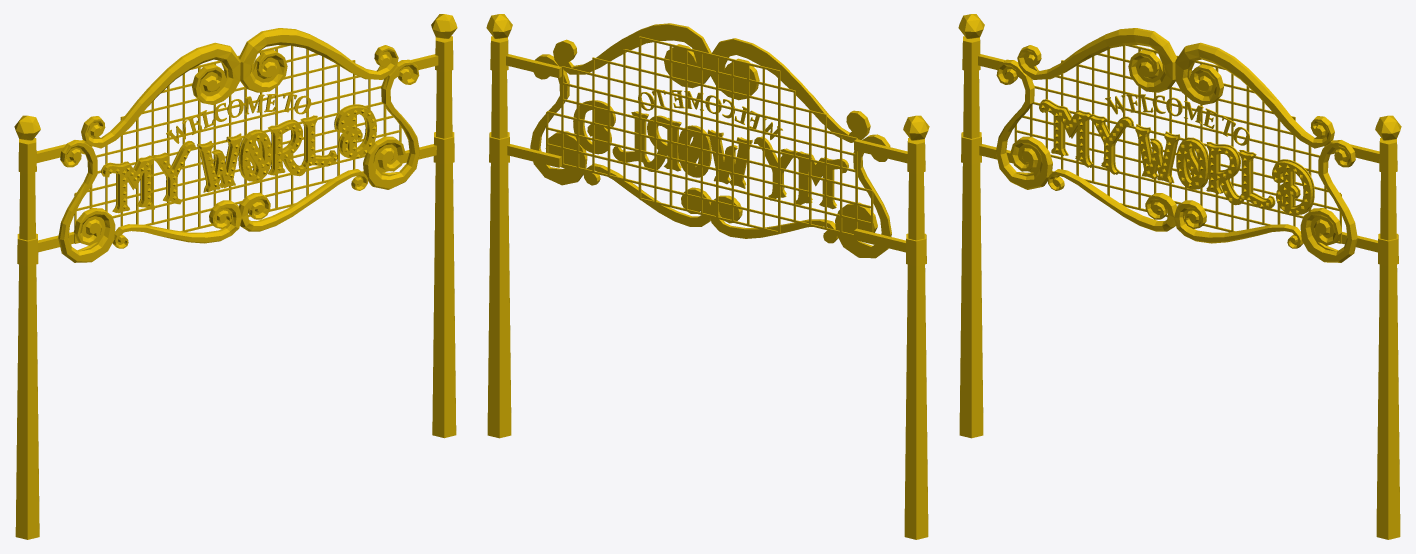
File: WTMW_sign02.fbx
3 renders of one model, left to right at view 1: azimuth 30°, elevation 25°; view 2: azimuth 150°, elevation 25°; view 3: azimuth 330°, elevation 25°, orthographic.
Parts seen in each view (by area): view 1: sign_1; view 2: sign_1; view 3: sign_1.
Part boxes in pixels (x1=…): sign_1: x1=14, y1=14, x2=457, y2=539; sign_1: x1=486, y1=14, x2=929, y2=539; sign_1: x1=958, y1=14, x2=1401, y2=539.
Bounding box in the file's own units: 740 × 719 × 40.74.
